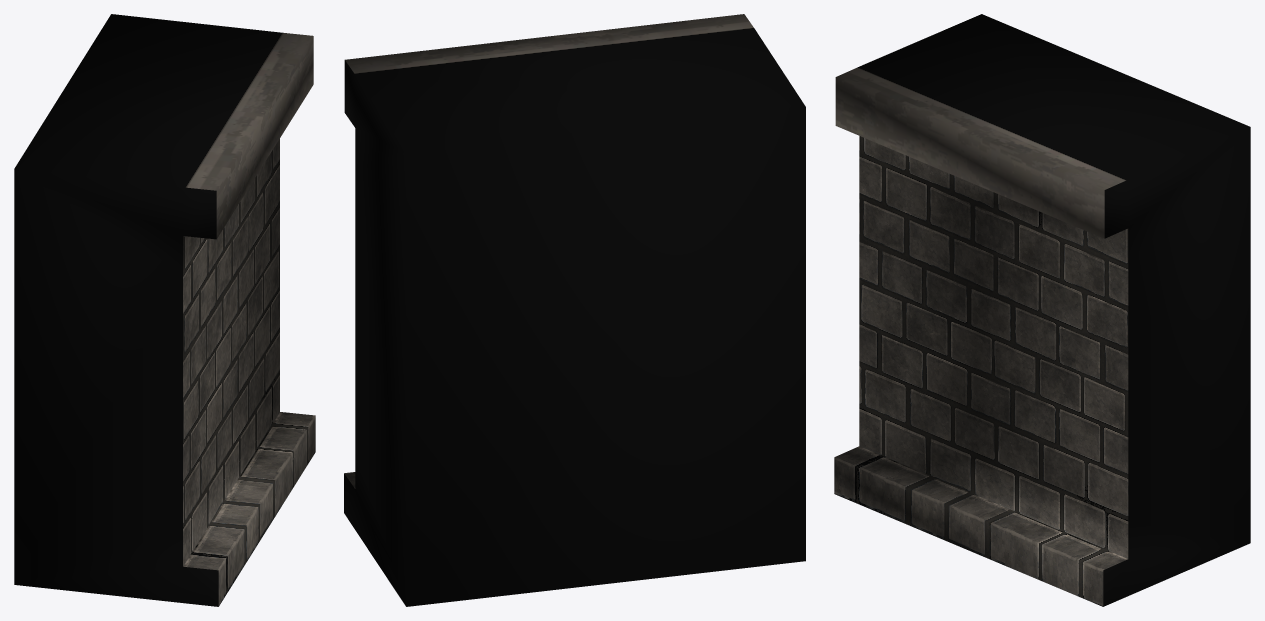
File: ModularCornerFill.fbx
3 renders of one model, left to right at view 1: azimuth 30°, elevation 25°; view 2: azimuth 150°, elevation 25°; view 3: azimuth 270°, elevation 25°, orthographic. The views are drawn at different scales.
Visible parts, largest first — view 1: Plane; view 2: Plane; view 3: Plane.
Part boxes in pixels (x1=…): Plane: x1=14, y1=14, x2=315, y2=606; Plane: x1=344, y1=14, x2=805, y2=606; Plane: x1=834, y1=14, x2=1250, y2=606.
Size of the model in its own units: 1.82 by 2 by 1.81.
Materials: 1 (1 with a texture image).
